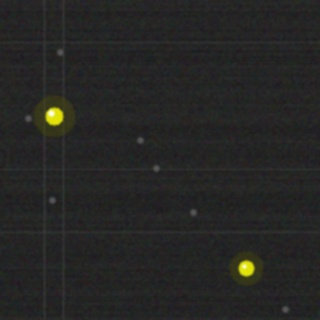yellow_warning: (43, 105, 65, 127), (236, 258, 256, 278)
